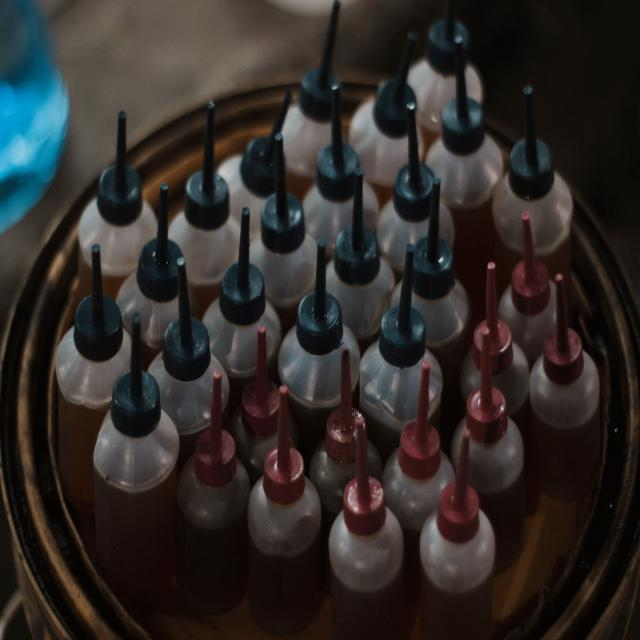Bottle: (94, 314, 179, 599), (427, 37, 503, 323), (56, 245, 130, 513), (278, 239, 359, 461), (248, 386, 320, 635), (360, 245, 442, 462), (177, 371, 250, 614), (452, 327, 524, 572), (148, 258, 229, 473), (383, 362, 454, 603), (329, 416, 404, 639), (530, 274, 601, 501), (0, 0, 68, 233), (412, 179, 470, 451), (203, 209, 281, 411), (420, 432, 495, 639), (492, 87, 573, 278), (169, 103, 239, 317), (79, 112, 157, 299), (250, 134, 315, 333), (460, 263, 529, 447), (310, 350, 361, 592), (116, 183, 182, 369), (327, 169, 394, 352), (349, 33, 416, 206), (283, 0, 340, 199), (377, 104, 434, 278), (218, 92, 291, 223), (304, 84, 358, 257), (408, 0, 468, 148), (498, 213, 555, 366), (227, 326, 279, 485)
